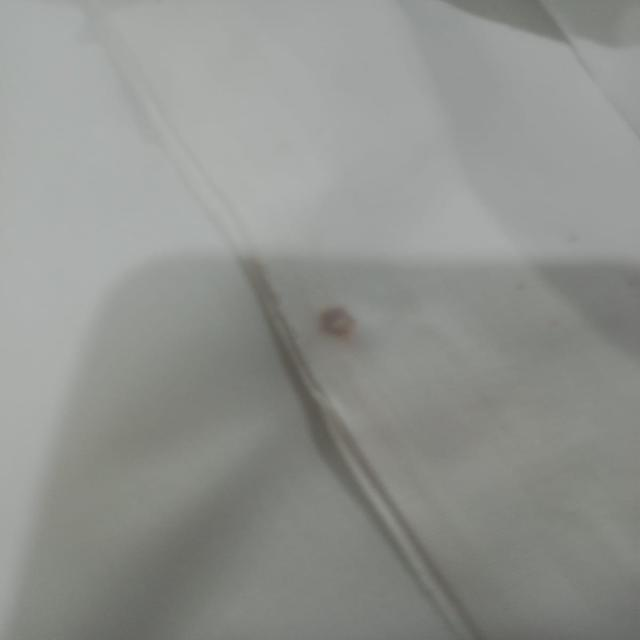stain: (301, 295, 369, 349)
